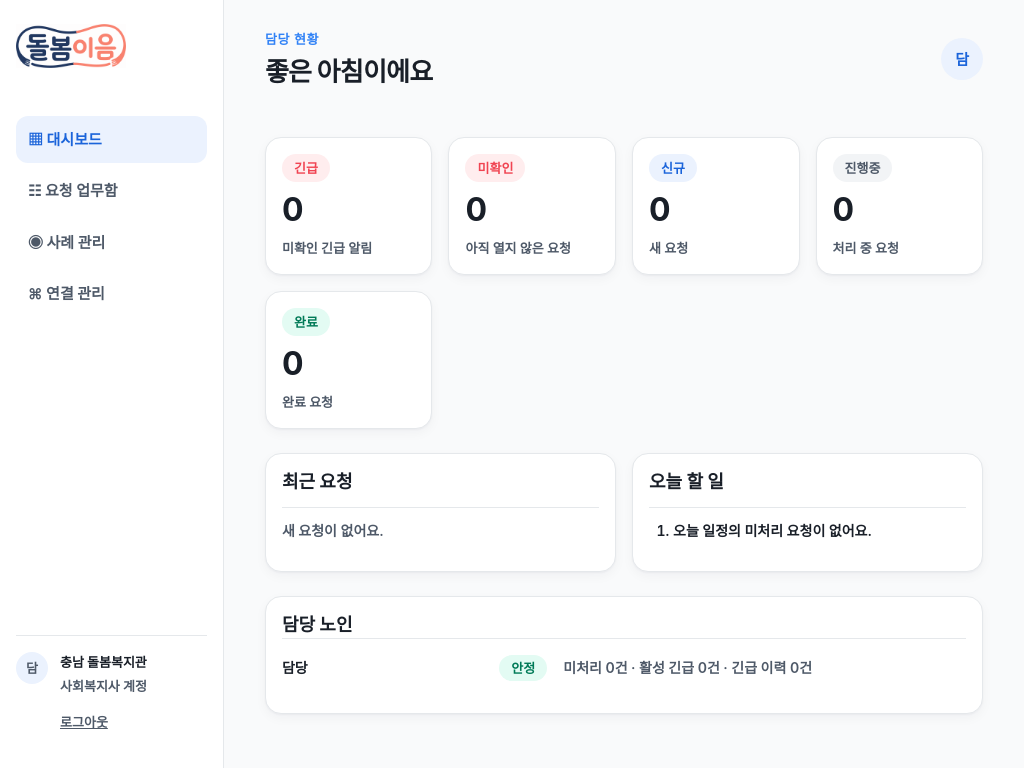
Test: WorkerDashboard — inbox driven by real API + realtime, not hardcoded mock data (Phase 4) › optimistically removes a card after the worker confirms server deletion
Click the button "☷ 요청 업무함": (112, 191) [16,167,207,215]
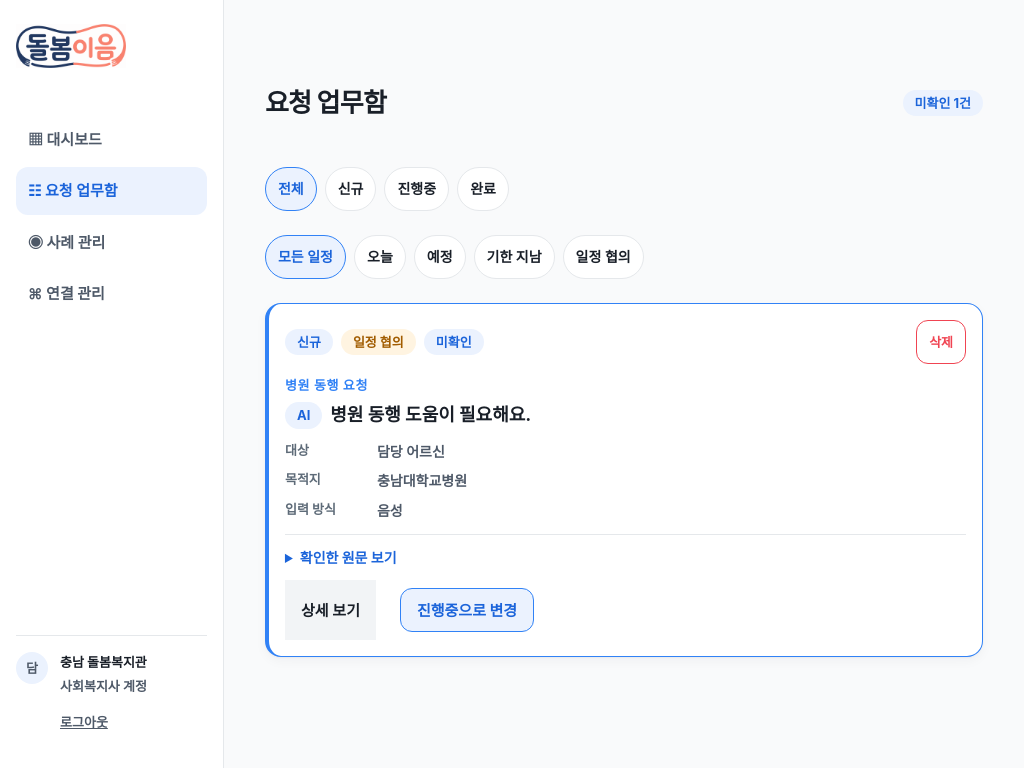
Result: the text "병원 동행 도움이 필요해요." is shown at [330,404,531,425]
Click the button named "요청 삭제": (941, 342) [916,320,966,364]
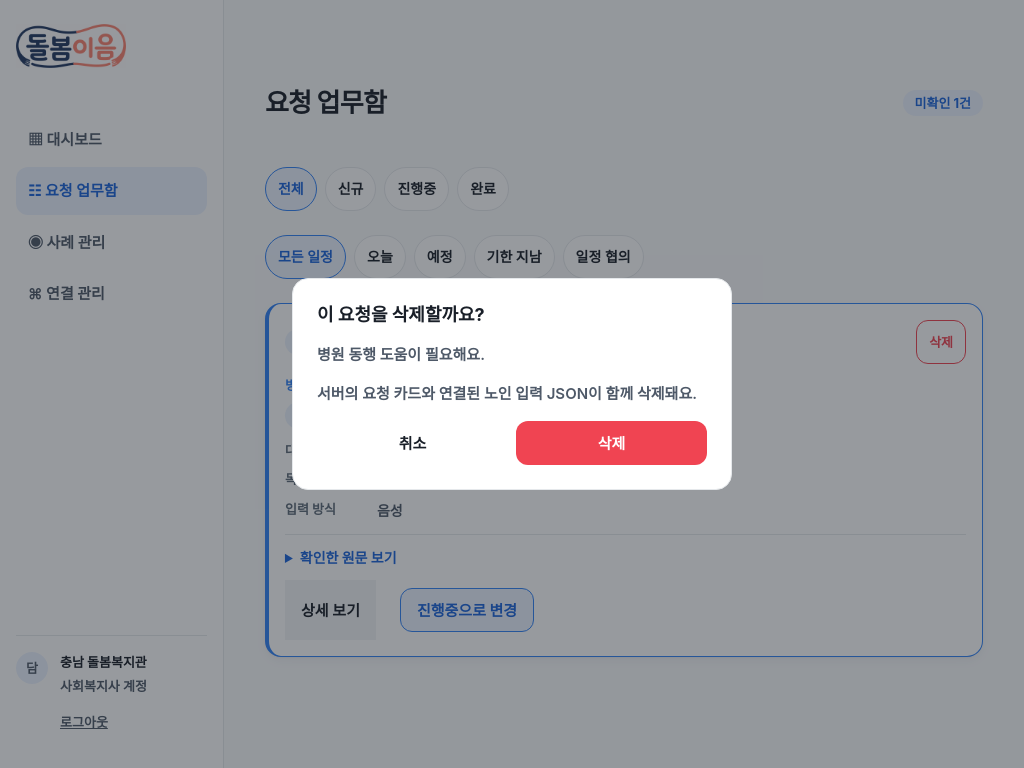
Click the button "삭제": (612, 443) [516,421,707,465]
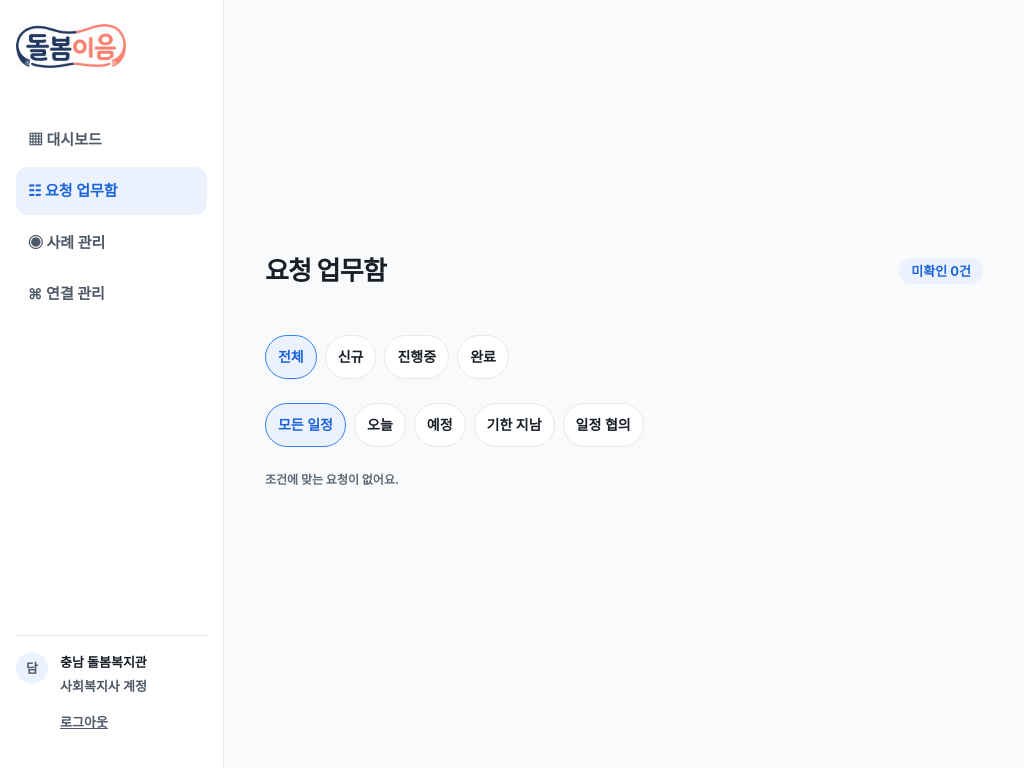
Result: the text "병원 동행 도움이 필요해요." is gone
